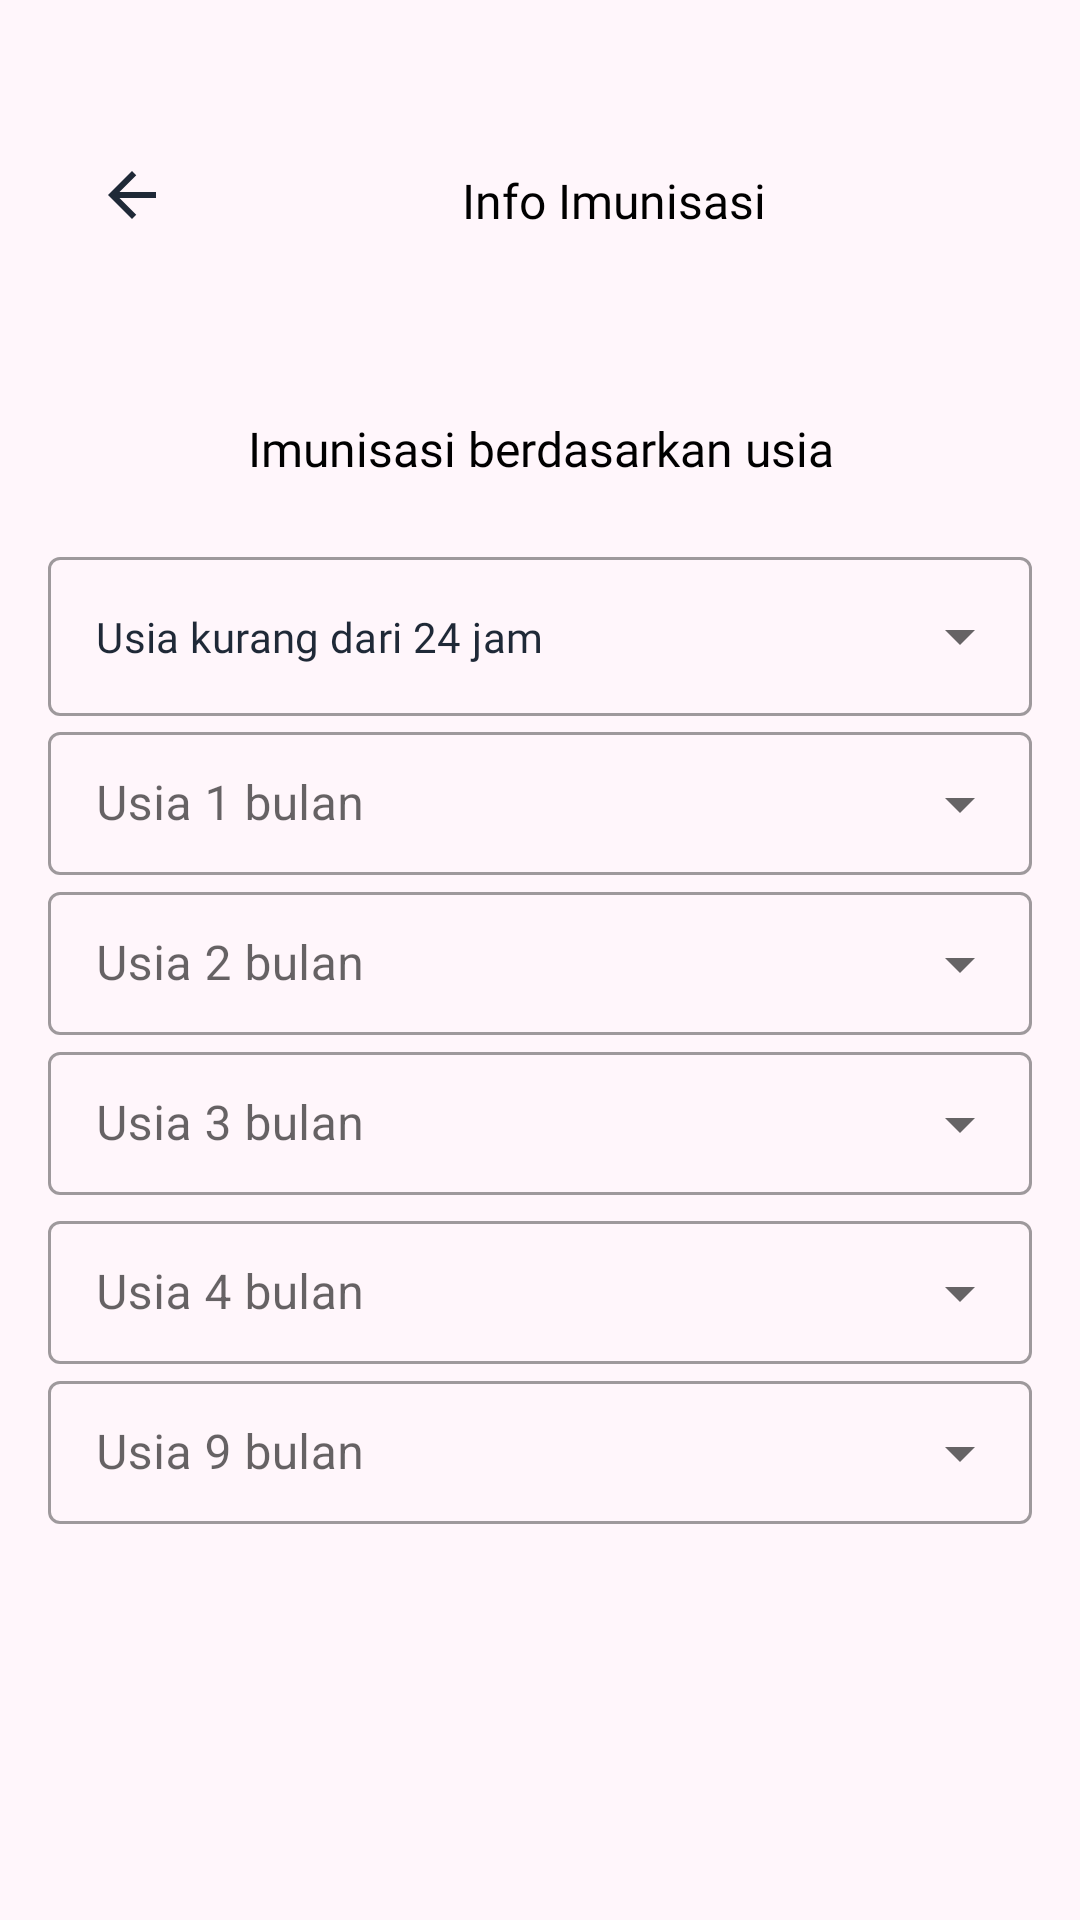

Locate icon controls on the screen. Image size 1080 x 1920, boxes as (x1, y1, x2, y2).
back: (108, 171, 156, 219)
